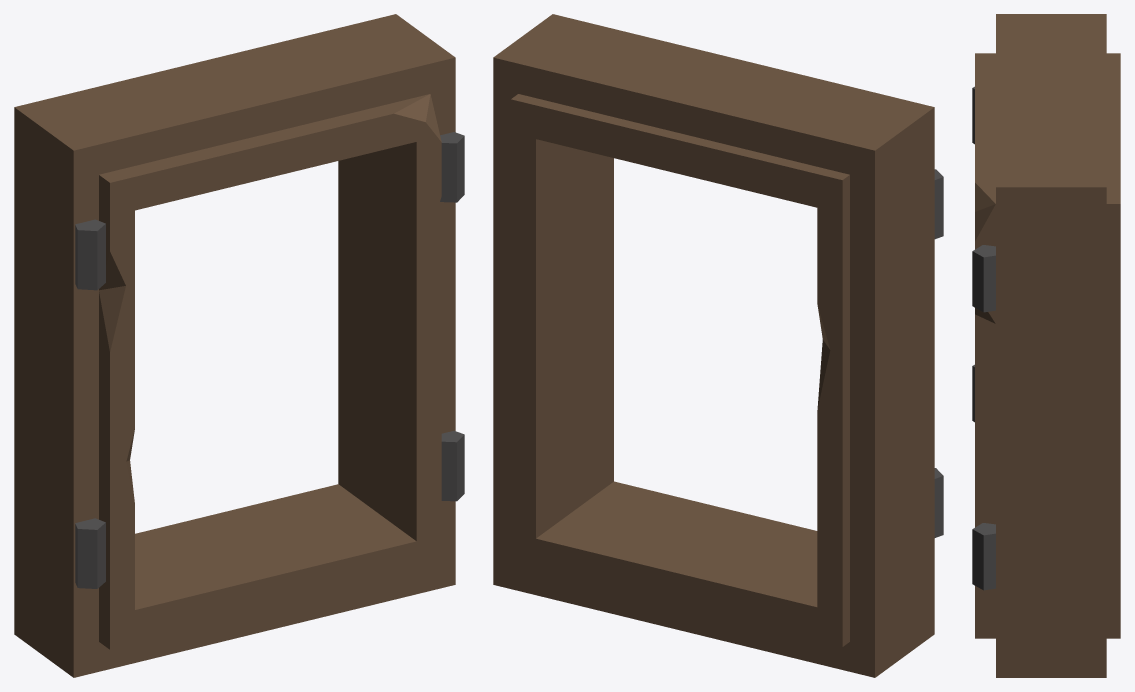
File: SM_Bld_Village_Window_01.fbx
The picture shows the model from 3 angles, left to right: view 1: azimuth 30°, elevation 25°; view 2: azimuth 150°, elevation 25°; view 3: azimuth 270°, elevation 25°; orthographic projection. The views are drawn at different scales.
Parts seen in each view (by area): view 1: SM_Bld_Village_Window_01; view 2: SM_Bld_Village_Window_01; view 3: SM_Bld_Village_Window_01.
Boxes of the visible parts, <box> form: SM_Bld_Village_Window_01: <box>14,14,464,677</box>; SM_Bld_Village_Window_01: <box>493,14,943,677</box>; SM_Bld_Village_Window_01: <box>972,14,1120,677</box>.
Bounding box in the file's own units: 138 × 180 × 49.08.
